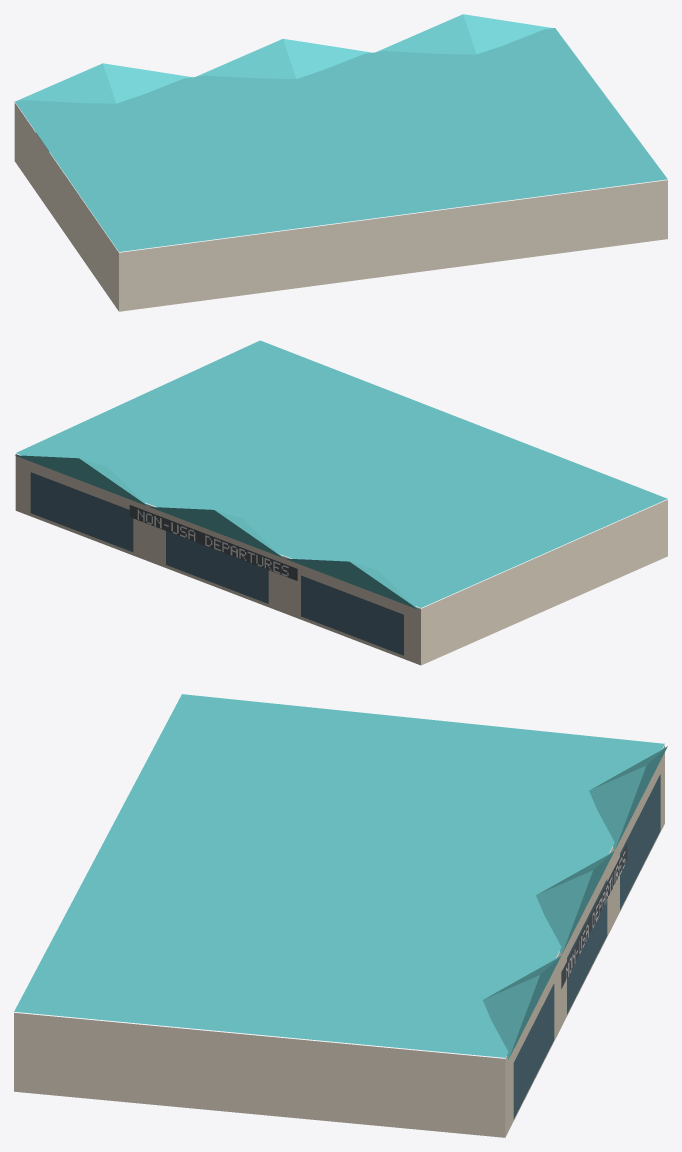
File: apt_nonusa_dep.glb
3 renders of one model, top to bottom at view 1: azimuth 30°, elevation 25°; view 2: azimuth 150°, elevation 25°; view 3: azimuth 270°, elevation 25°, orthographic. The views are drawn at different scales.
Visible parts, largest first — view 1: apt_nonusa_dep_lod0; view 2: apt_nonusa_dep_lod0; view 3: apt_nonusa_dep_lod0.
Boxes of the visible parts, bbox=[...] form: apt_nonusa_dep_lod0: bbox=[14, 14, 667, 311]; apt_nonusa_dep_lod0: bbox=[15, 340, 667, 665]; apt_nonusa_dep_lod0: bbox=[14, 694, 667, 1137].
Size of what is drawn, in the model's own units: 41.03 by 5.85 by 31.15.
